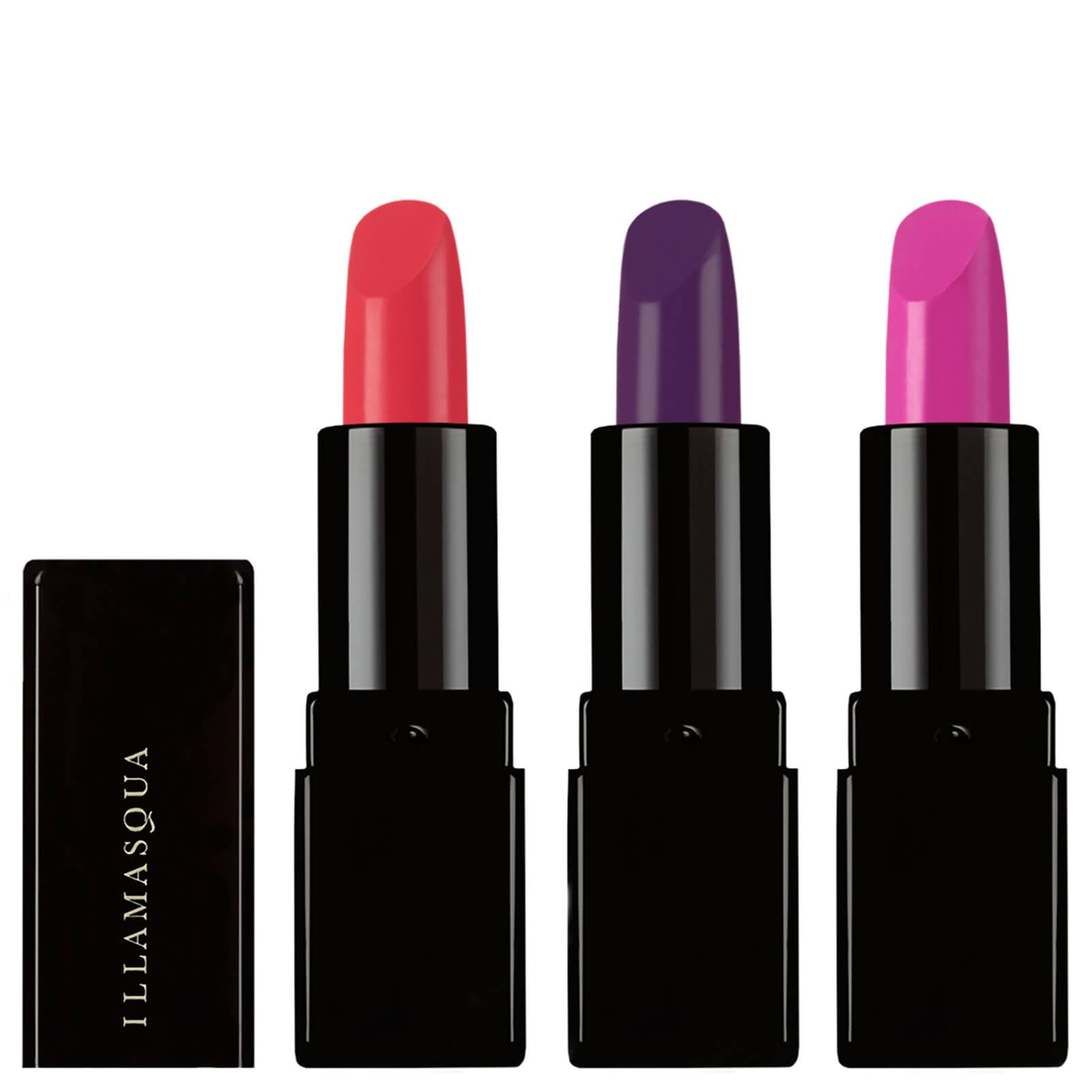lipstick: (267, 165, 553, 1048), (561, 176, 802, 1075), (828, 191, 1072, 1073)
